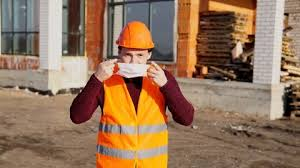Helmet: (112, 22, 158, 51)
Jacket: (99, 73, 176, 168)
Mask: (115, 59, 150, 81)
